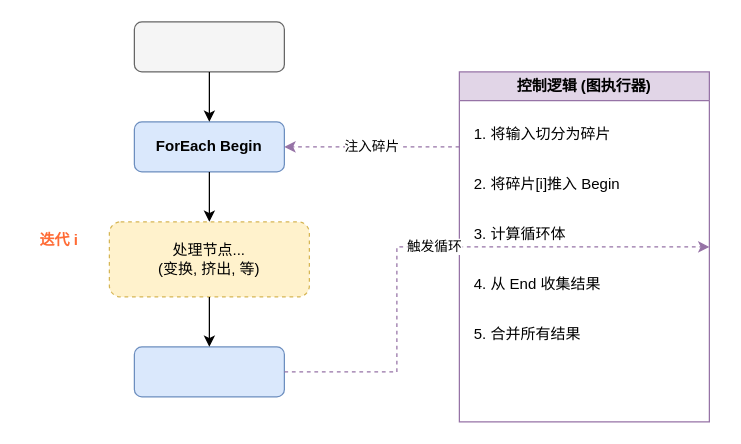
Some shapes in this 741 by 444 pixel diagram are drawn without their labels. Here are the shapes that lost their labels. From the top down, the centre of each, then its label:
At (x=208, y=46): "输入几何体".
At (x=208, y=371): "ForEach End".
